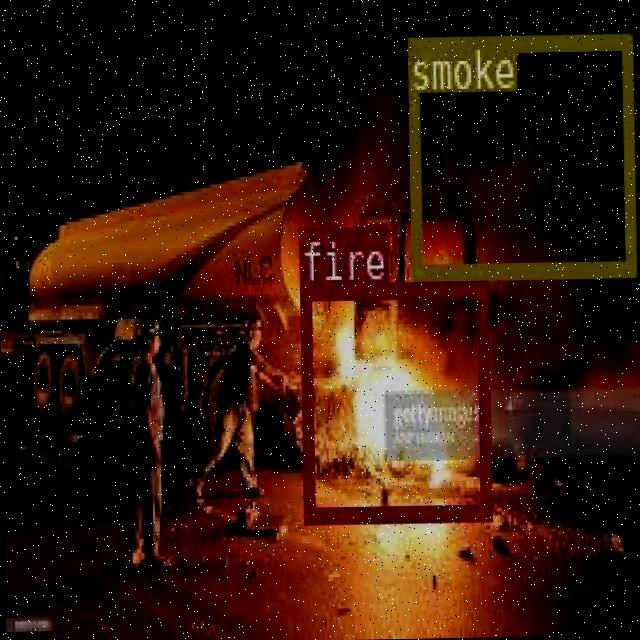fire: (298, 280, 488, 521)
smoke: (405, 30, 634, 276)
